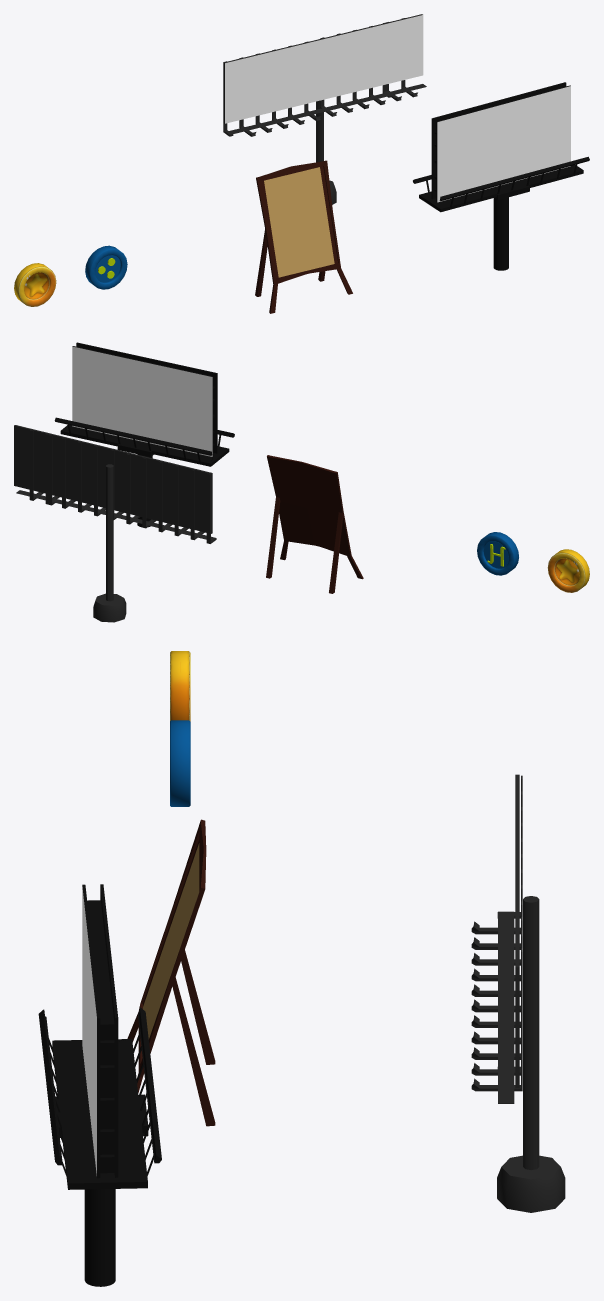
Rendered from coin.FBX.
3 views of the same model, one above another, from view 1: azimuth 30°, elevation 25°; view 2: azimuth 150°, elevation 25°; view 3: azimuth 270°, elevation 25° (orthographic). The views are drawn at different scales.
Parts seen in each view (by area): view 1: BillBoard_1, BillBoard_2, tabela, billboards_ID, Cube.010, Cylinder, Coin001, Coin; view 2: Cylinder, BillBoard_2, Cube.010, billboards_ID, Coin001, Coin; view 3: billboards_ID, Cylinder, Cube.010, tabela, BillBoard_2, Coin001, Coin.
Boxes of the visible parts, x1=… form: BillBoard_1: x1=225, y1=15, x2=423, y2=123; BillBoard_2: x1=437, y1=86, x2=570, y2=202; tabela: x1=264, y1=167, x2=334, y2=277; billboards_ID: x1=413, y1=82, x2=589, y2=270; Cube.010: x1=255, y1=160, x2=352, y2=313; Cylinder: x1=223, y1=14, x2=426, y2=204; Coin001: x1=85, y1=245, x2=127, y2=289; Coin: x1=14, y1=263, x2=56, y2=306; Cylinder: x1=14, y1=425, x2=216, y2=622; BillBoard_2: x1=72, y1=346, x2=212, y2=456; Cube.010: x1=266, y1=455, x2=363, y2=593; billboards_ID: x1=54, y1=342, x2=234, y2=527; Coin001: x1=477, y1=532, x2=518, y2=575; Coin: x1=547, y1=549, x2=589, y2=592; billboards_ID: x1=38, y1=884, x2=161, y2=1286; Cylinder: x1=471, y1=774, x2=565, y2=1212; Cube.010: x1=127, y1=819, x2=215, y2=1126; tabela: x1=143, y1=843, x2=199, y2=1039; BillBoard_2: x1=82, y1=887, x2=96, y2=1175; Coin001: x1=170, y1=720, x2=190, y2=806; Coin: x1=170, y1=651, x2=190, y2=721.
Bounding box in the file's own units: 33.8 × 14.28 × 10.12.
Materials: 8 (1 with a texture image).
